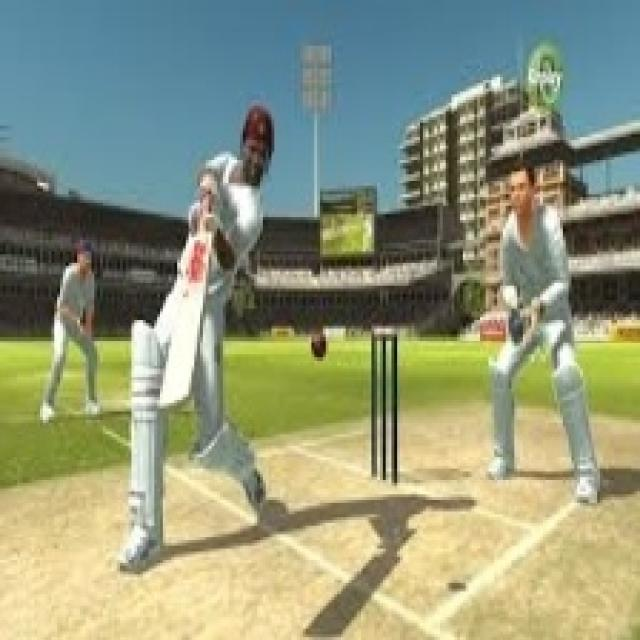batsman: (116, 88, 287, 580)
wicket: (364, 316, 406, 494)
